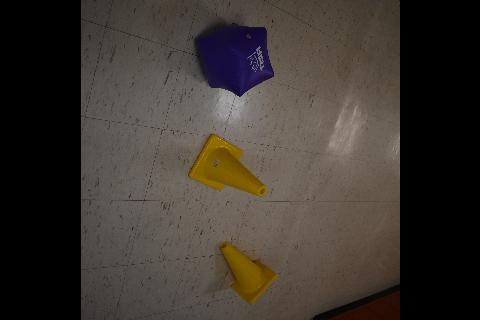cone: (185, 130, 267, 206), (208, 231, 280, 309)
cube: (192, 14, 276, 100)
